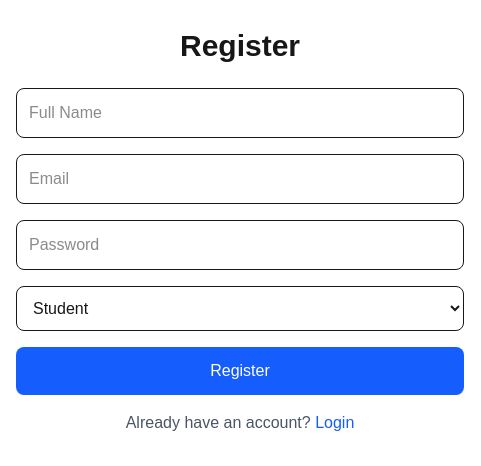
Test case: RegisterPage › should display fallback error on API error without message
Type "Test User" into the field with placeholder "Full Name". click: (240, 112)
box: [16, 88, 464, 138]
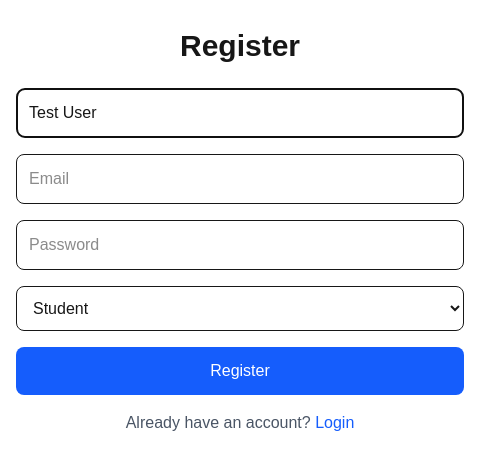
Type "test@test.com" into the field with placeholder "Email". click: (240, 178)
box: [16, 154, 464, 204]
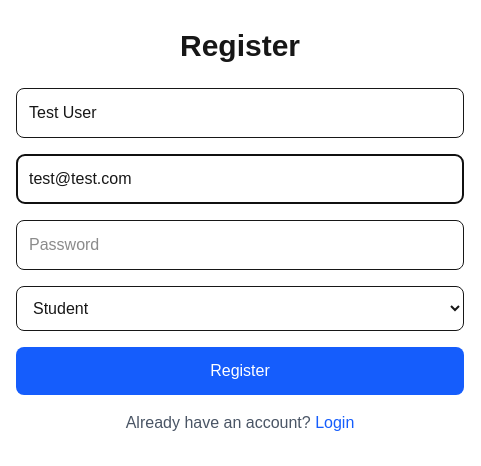
Type "password123" into the password field with placeholder "Password". click: (240, 244)
box: [16, 220, 464, 270]
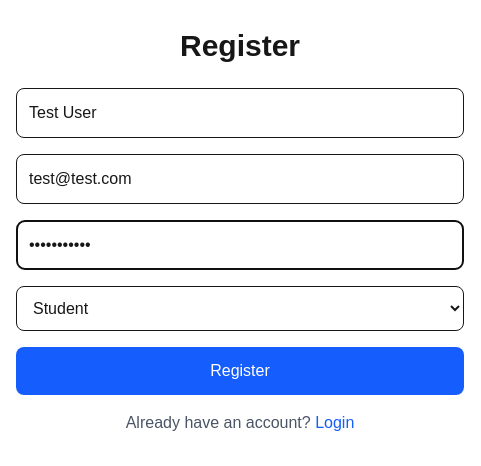
Click the button "Register". click: (240, 370)
box: [16, 346, 464, 394]
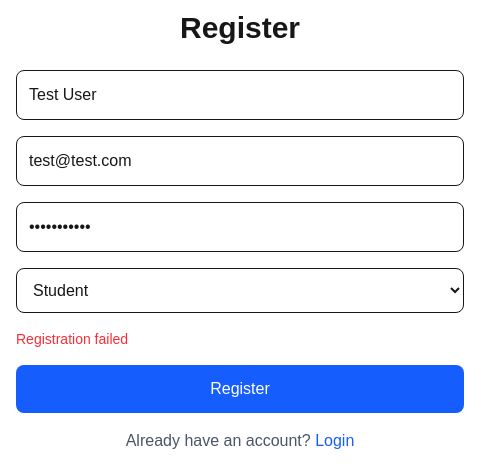
Expected: the text "Registration failed" is shown, [16, 330, 128, 346]
